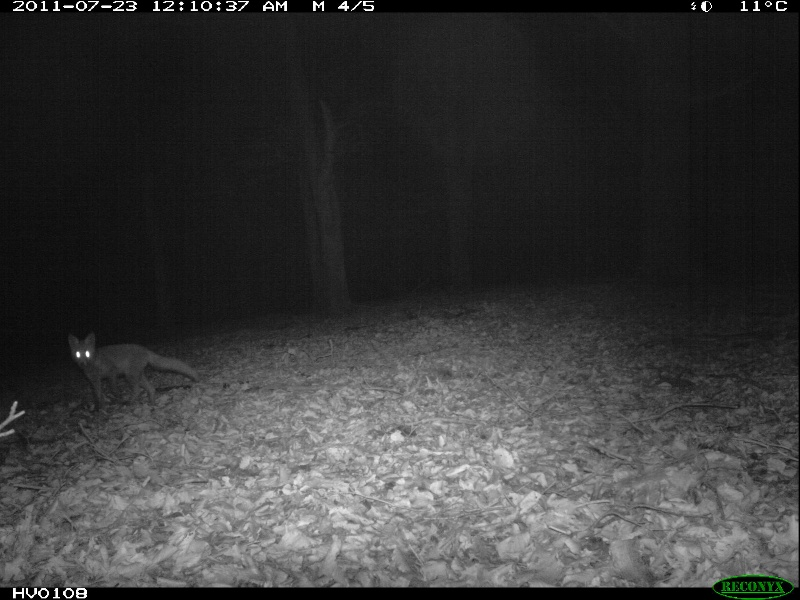fox: (65, 330, 201, 410)
